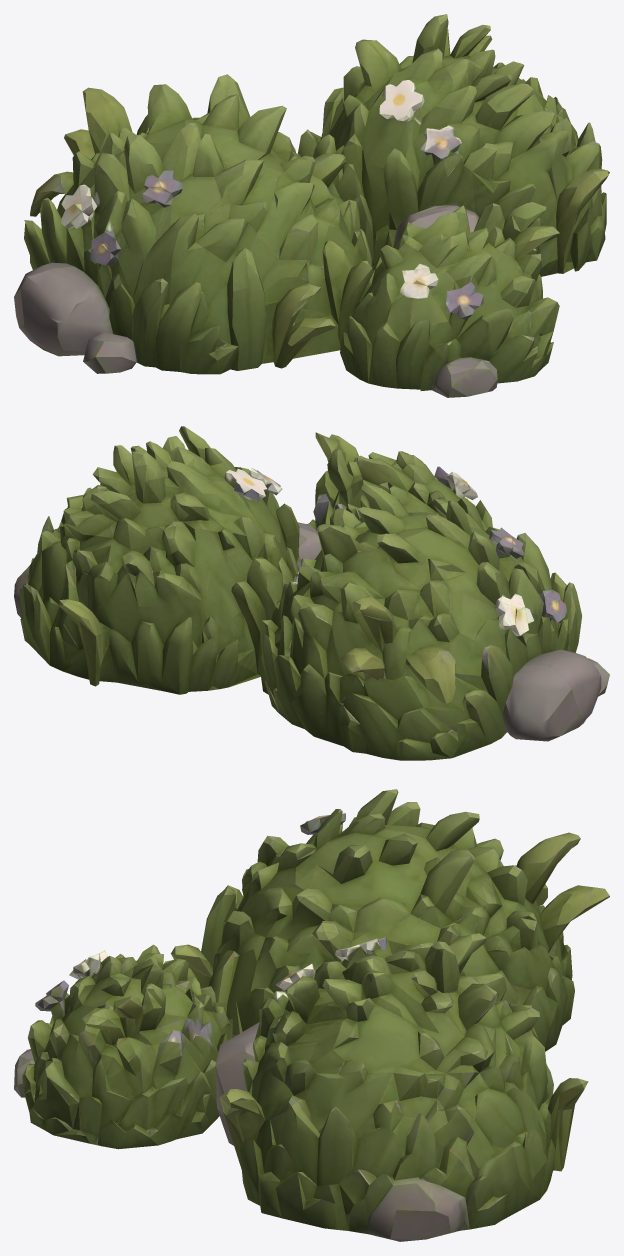
The model's file is meadowGrass.glb.
The picture shows the model from 3 angles, top to bottom: view 1: azimuth 30°, elevation 25°; view 2: azimuth 150°, elevation 25°; view 3: azimuth 270°, elevation 25°; orthographic projection. The views are drawn at different scales.
Visible parts, largest first — view 1: Mesh_0; view 2: Mesh_0; view 3: Mesh_0.
Boxes of the visible parts, <box> form: Mesh_0: <box>14,14,609,397</box>; Mesh_0: <box>14,426,609,760</box>; Mesh_0: <box>14,789,609,1241</box>.
Size of the model in its own units: 1.2 by 0.4092 by 0.9672.
Materials: 1 (1 with a texture image).
